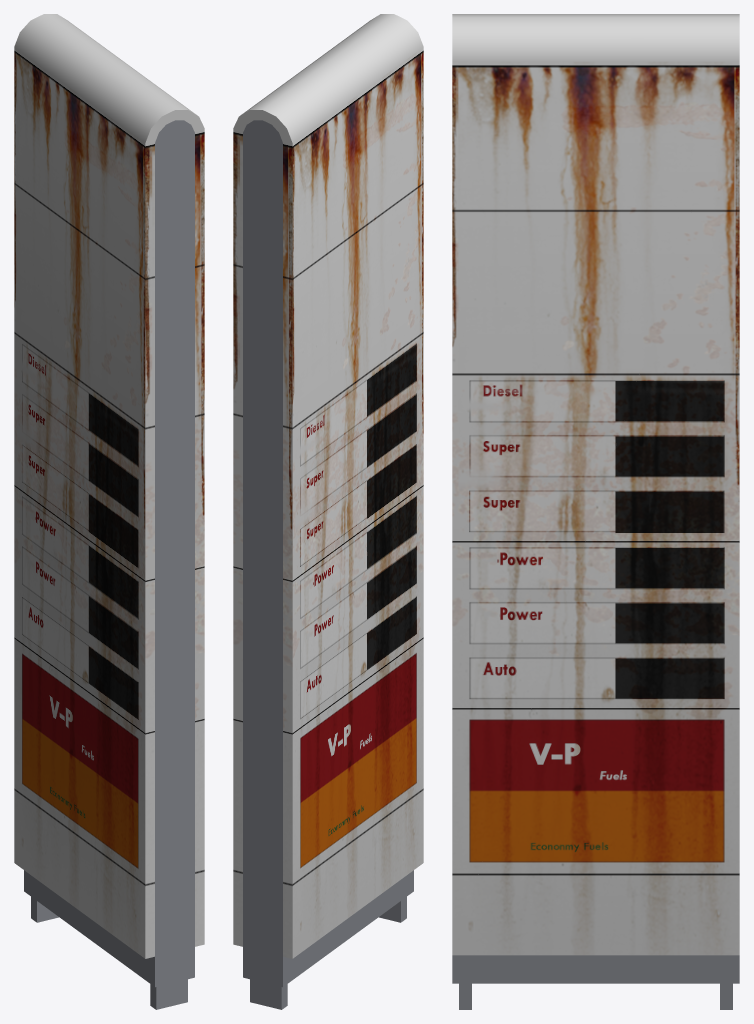
File: ADvertise.FBX
The picture shows the model from 3 angles, left to right: view 1: azimuth 30°, elevation 25°; view 2: azimuth 150°, elevation 25°; view 3: azimuth 270°, elevation 25°; orthographic projection. The views are drawn at different scales.
Visible parts, largest first — view 1: Advertise; view 2: Advertise; view 3: Advertise.
Boxes of the visible parts, x1=… form: Advertise: x1=14, y1=14, x2=204, y2=1009; Advertise: x1=233, y1=14, x2=423, y2=1009; Advertise: x1=452, y1=14, x2=739, y2=1009.
Size of the model in its own units: 0.5216 by 7.55 by 2.
